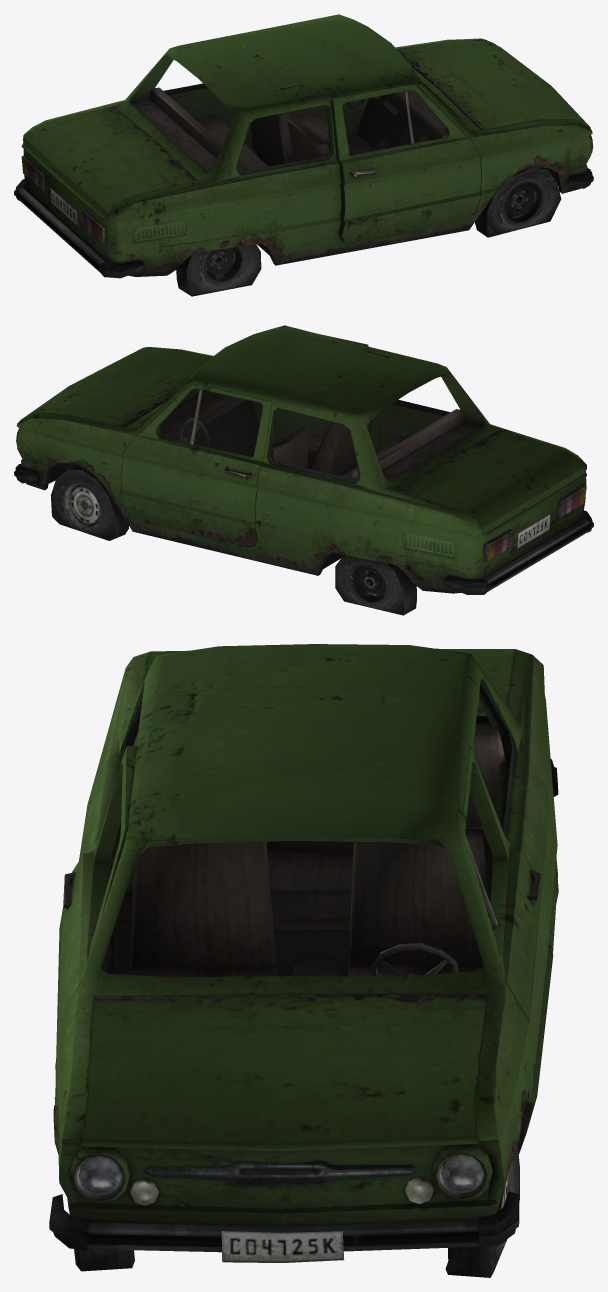
File: green_car.fbx
3 renders of one model, top to bottom at view 1: azimuth 30°, elevation 25°; view 2: azimuth 150°, elevation 25°; view 3: azimuth 270°, elevation 25°, orthographic. The views are drawn at different scales.
Visible parts, largest first — view 1: green_car.001; view 2: green_car.001; view 3: green_car.001.
Part boxes in pixels (x1,y1,x2,y2): green_car.001: (14,14,593,296); green_car.001: (14,325,593,615); green_car.001: (49,644,558,1277).
Bounding box in the file's own units: 4.81 × 1.66 × 2.19.
1 material, 1 textured.
